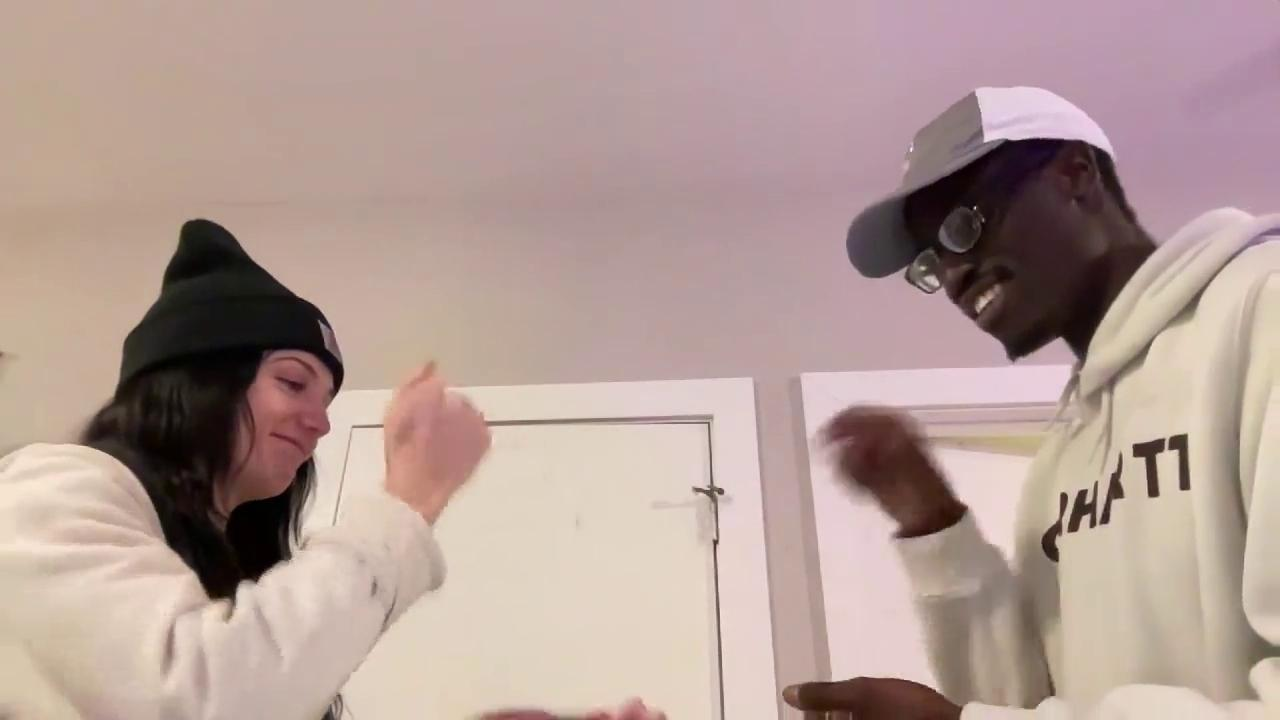Rock: (380, 362, 496, 506), (813, 410, 932, 524)
